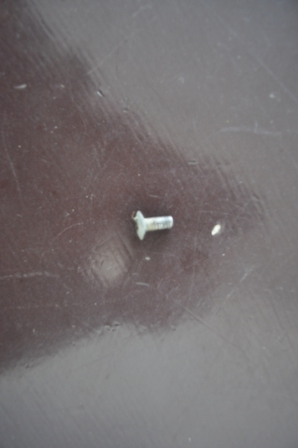NUT (MT): (130, 210, 176, 241)
